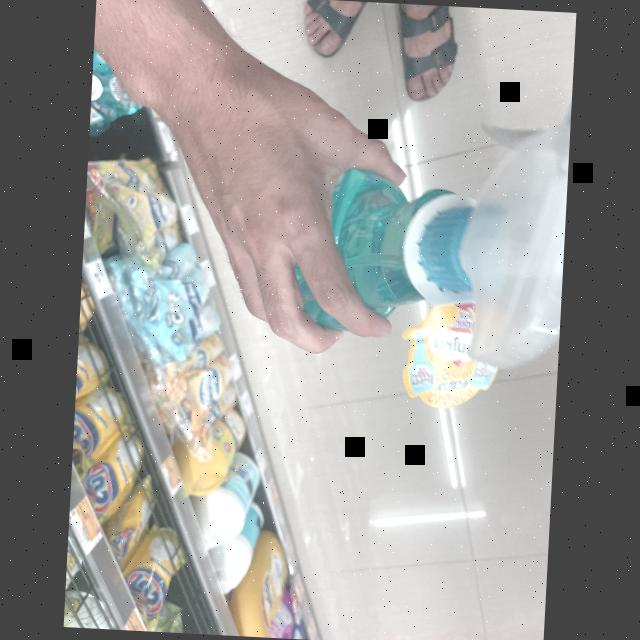chemical_plastic_bottle: (254, 78, 572, 378)
